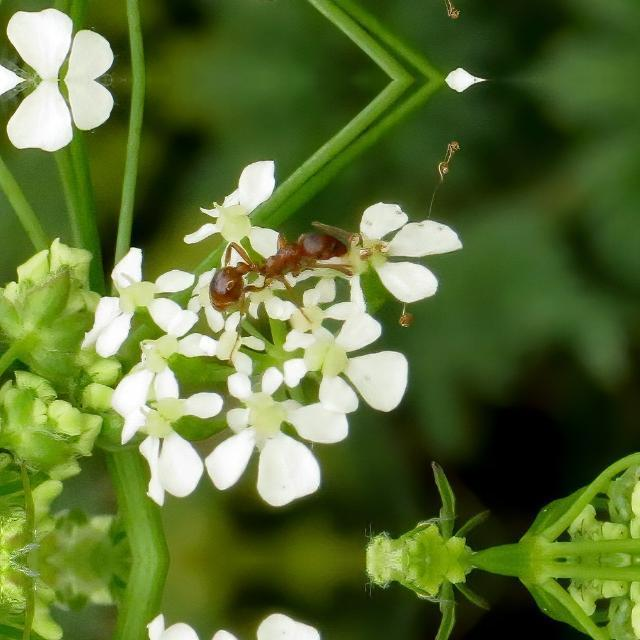Myrmica: (186, 191, 364, 337)
